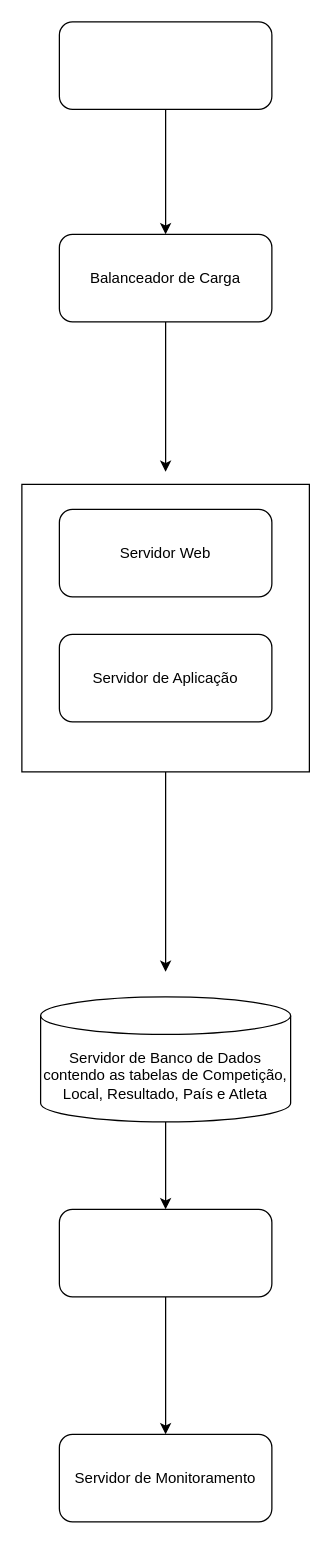
This 331x1544 diagram has some shape labels left out. Here are the shapes that lost their labels. From the top down, the box of each, then its label:
(58, 21, 272, 109): Dispositivo do Usuário
(58, 1208, 272, 1297): Storage
